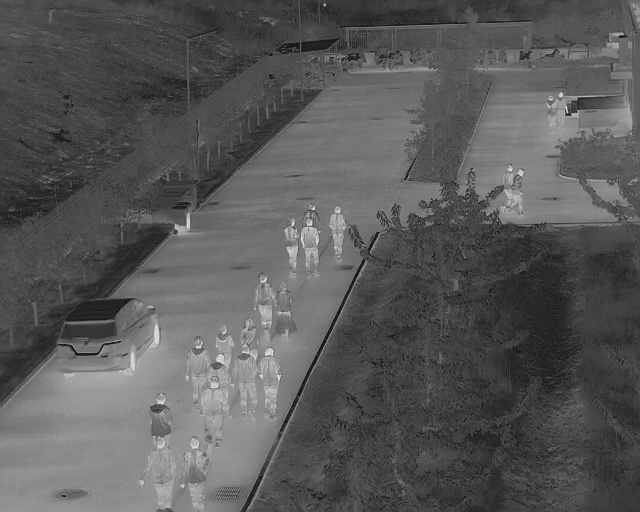person: (145, 441, 178, 510), (185, 438, 216, 511), (201, 375, 228, 442), (236, 346, 259, 418), (273, 280, 299, 343), (261, 346, 282, 419), (254, 270, 275, 338), (302, 220, 323, 278), (150, 391, 174, 439), (282, 217, 301, 275), (328, 205, 347, 259), (186, 337, 208, 383), (215, 324, 235, 363), (514, 167, 529, 215), (502, 162, 514, 213), (240, 316, 260, 346), (545, 94, 558, 131), (555, 91, 570, 123)
vehicle: (53, 298, 160, 377)
